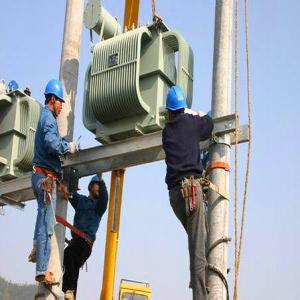blue: (44, 77, 65, 119), (166, 85, 188, 120), (89, 176, 101, 201)
